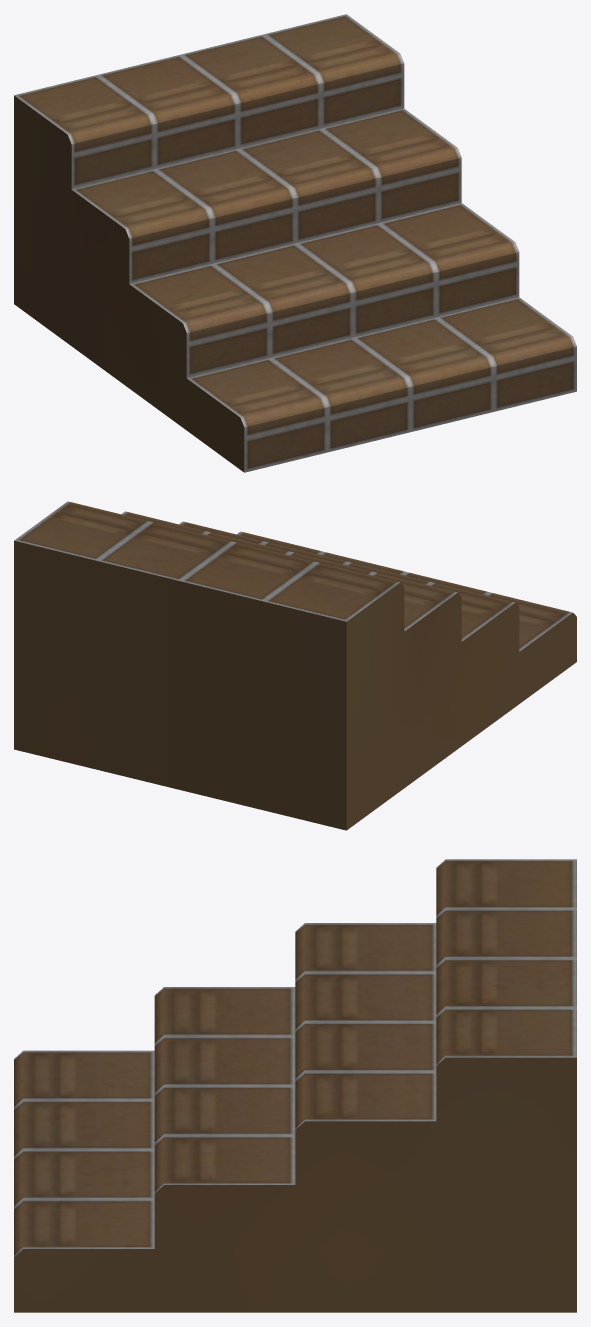
File: set_floor_02b_03_stairs.fbx
3 views of the same model, one above another, from view 1: azimuth 30°, elevation 25°; view 2: azimuth 150°, elevation 25°; view 3: azimuth 270°, elevation 25° (orthographic). The views are drawn at different scales.
Visible parts, largest first — view 1: set_floor_02b_03_stairs; view 2: set_floor_02b_03_stairs; view 3: set_floor_02b_03_stairs.
Part boxes in pixels (x1,y1,x2,y2): set_floor_02b_03_stairs: (14, 14, 576, 472); set_floor_02b_03_stairs: (14, 501, 576, 830); set_floor_02b_03_stairs: (14, 859, 576, 1312).
Size of the model in its own units: 100 by 60 by 120.
